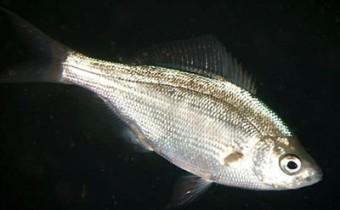fish: (0, 6, 322, 206)
